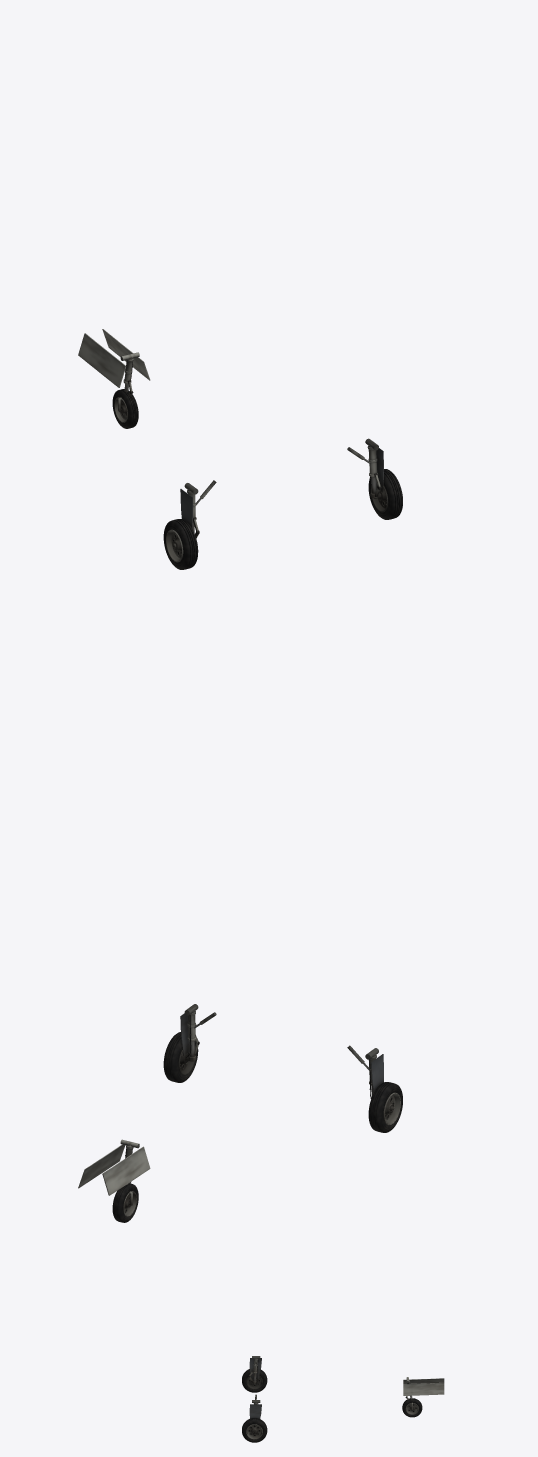
Rendered from su7_gear.glb.
3 views of the same model, one above another, from view 1: azimuth 30°, elevation 25°; view 2: azimuth 150°, elevation 25°; view 3: azimuth 270°, elevation 25° (orthographic). The views are drawn at different scales.
Visible parts, largest first — view 1: gear_w_l, gear_door_n_l, gear_n, gear_w_r, gear_m_r, gear_m_l; view 2: gear_w_l, gear_door_n_l, gear_w_r, gear_n, gear_m_r, gear_m_l; view 3: gear_door_n_r, gear_w_r, gear_w_l, gear_n, gear_m_l.
Part boxes in pixels (x1,y1,x2,y2): gear_w_l: [163, 519, 198, 569]; gear_door_n_l: [78, 333, 126, 387]; gear_n: [112, 352, 139, 428]; gear_w_r: [368, 469, 402, 519]; gear_m_r: [347, 438, 383, 498]; gear_m_l: [172, 480, 216, 548]; gear_w_l: [368, 1082, 402, 1132]; gear_door_n_l: [102, 1146, 150, 1195]; gear_w_r: [163, 1032, 198, 1082]; gear_n: [112, 1139, 139, 1222]; gear_m_r: [180, 1004, 216, 1061]; gear_m_l: [347, 1045, 393, 1111]; gear_door_n_r: [403, 1382, 444, 1395]; gear_w_r: [242, 1418, 267, 1442]; gear_w_l: [242, 1369, 267, 1392]; gear_n: [402, 1377, 422, 1417]; gear_m_l: [248, 1356, 261, 1383].
Bounding box in the file's own units: 4.17 × 6.03 × 16.81.
Materials: 1 (1 with a texture image).
